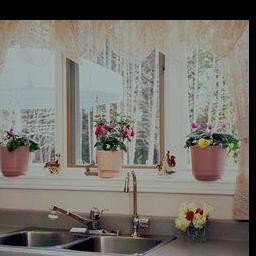Lavaplatos: (0, 157, 183, 256)
